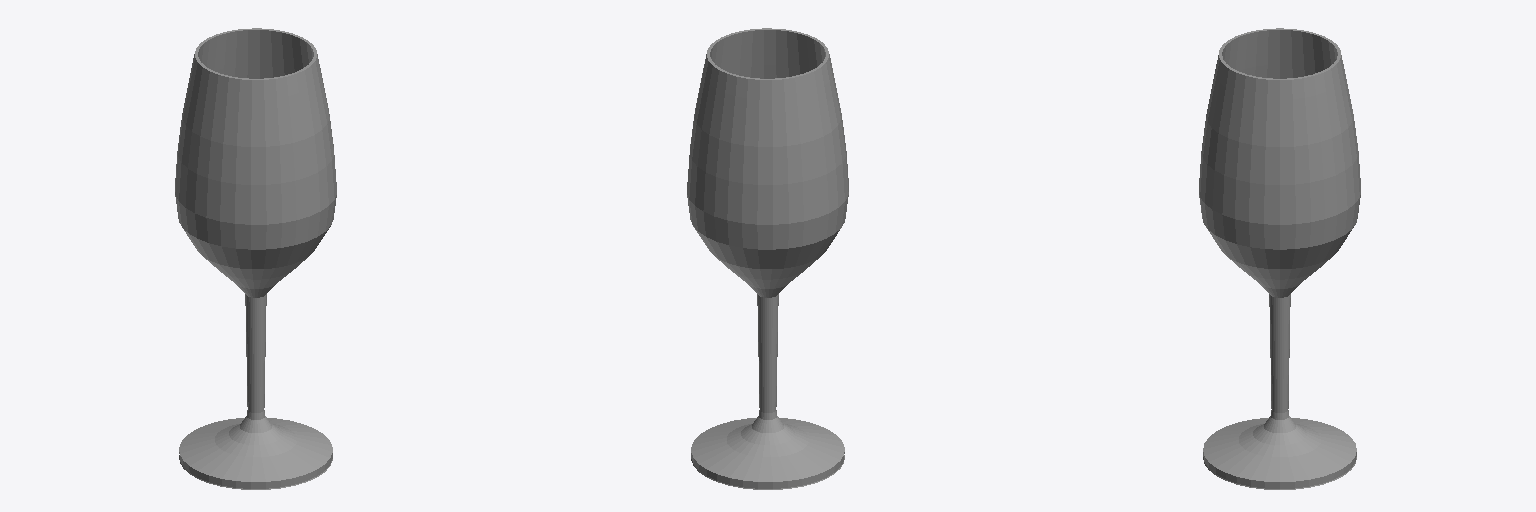
Rendered from glass.obj.
3 renders of one model, left to right at view 1: azimuth 30°, elevation 25°; view 2: azimuth 150°, elevation 25°; view 3: azimuth 270°, elevation 25°, orthographic.
Visible parts, largest first — view 1: Circle; view 2: Circle; view 3: Circle.
Boxes of the visible parts, x1,y1,x2,y2 form: Circle: [175, 28, 336, 489]; Circle: [687, 28, 848, 489]; Circle: [1199, 28, 1360, 489].
Bounding box in the file's own units: 0.5211 × 1.42 × 0.5211.